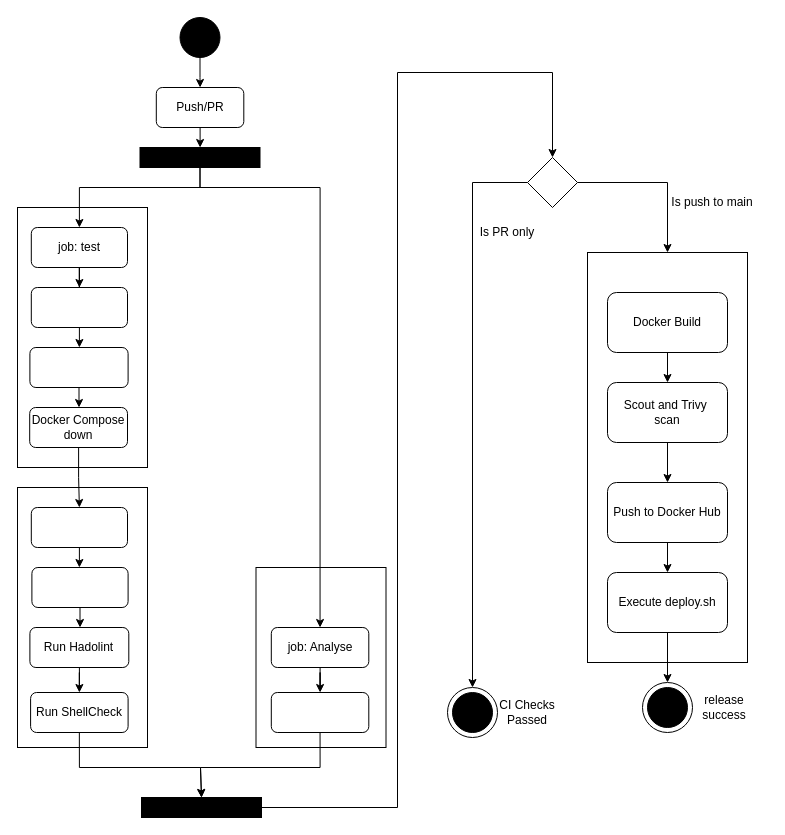
Some shapes in this 785 by 835 pixel diagram are drawn without their labels. The shapes that lost their labels are listed below. From the top down, each one's centre as x and y in pixels, then its label:
(x=79, y=307): Docker Compose up
(x=78, y=367): run tests
(x=79, y=527): job: lint
(x=79, y=587): run Black
(x=319, y=712): run CodeQL
